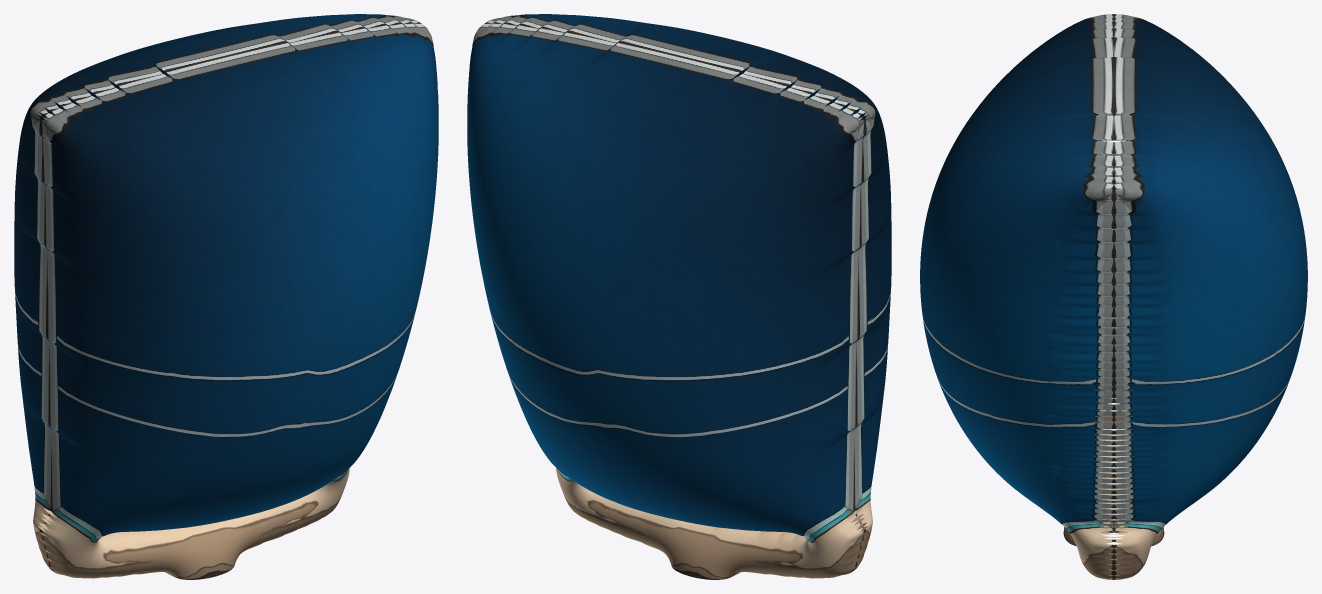
File: observation_bay.glb
3 views of the same model, side by side, from view 1: azimuth 30°, elevation 25°; view 2: azimuth 150°, elevation 25°; view 3: azimuth 270°, elevation 25° (orthographic). The views are drawn at different scales.
Visible parts, largest first — view 1: observation_bay; view 2: observation_bay; view 3: observation_bay.
Part boxes in pixels (x1=…): observation_bay: x1=14, y1=14, x2=438, y2=579; observation_bay: x1=467, y1=14, x2=891, y2=579; observation_bay: x1=920, y1=14, x2=1307, y2=579.
Size of the model in its own units: 0.9865 by 1.21 by 0.9112.
Materials: 1 (1 with a texture image).
